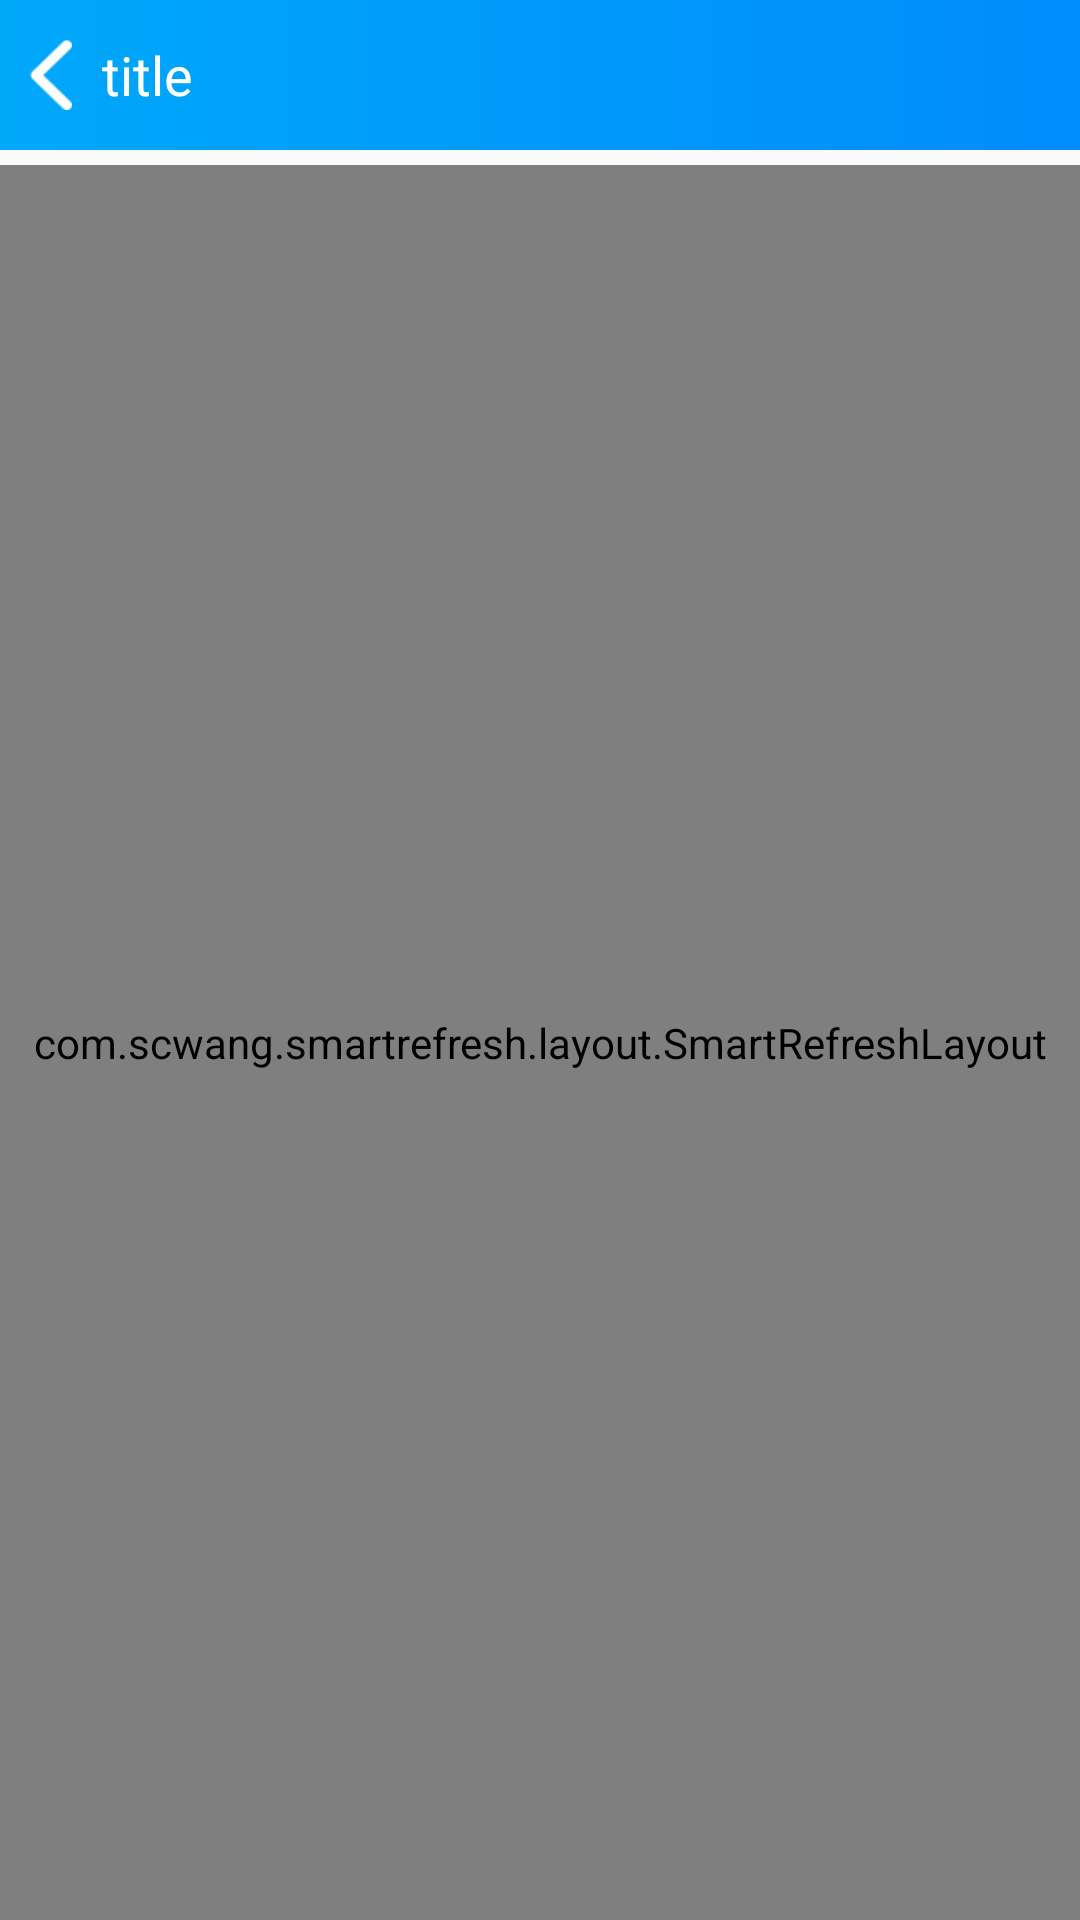

Point at icon controls on the screen. Image size 1080 × 1920, points as [x,y].
back: [51,75]
